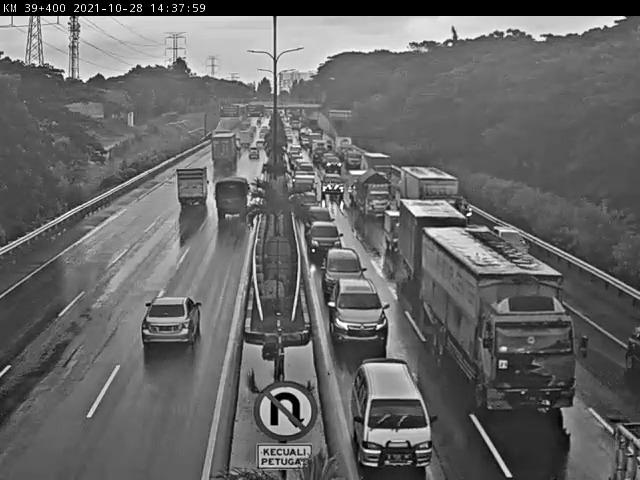car: (412, 212, 583, 421), (346, 353, 440, 480), (326, 271, 407, 359), (135, 289, 205, 356), (319, 245, 378, 303), (305, 217, 348, 264), (208, 130, 242, 172), (300, 199, 336, 233), (320, 173, 346, 200), (248, 143, 262, 165), (72, 420, 73, 421)
small bus: (214, 170, 250, 221)
small truck: (400, 195, 468, 303), (377, 207, 446, 255), (353, 172, 398, 222), (170, 163, 211, 213)
